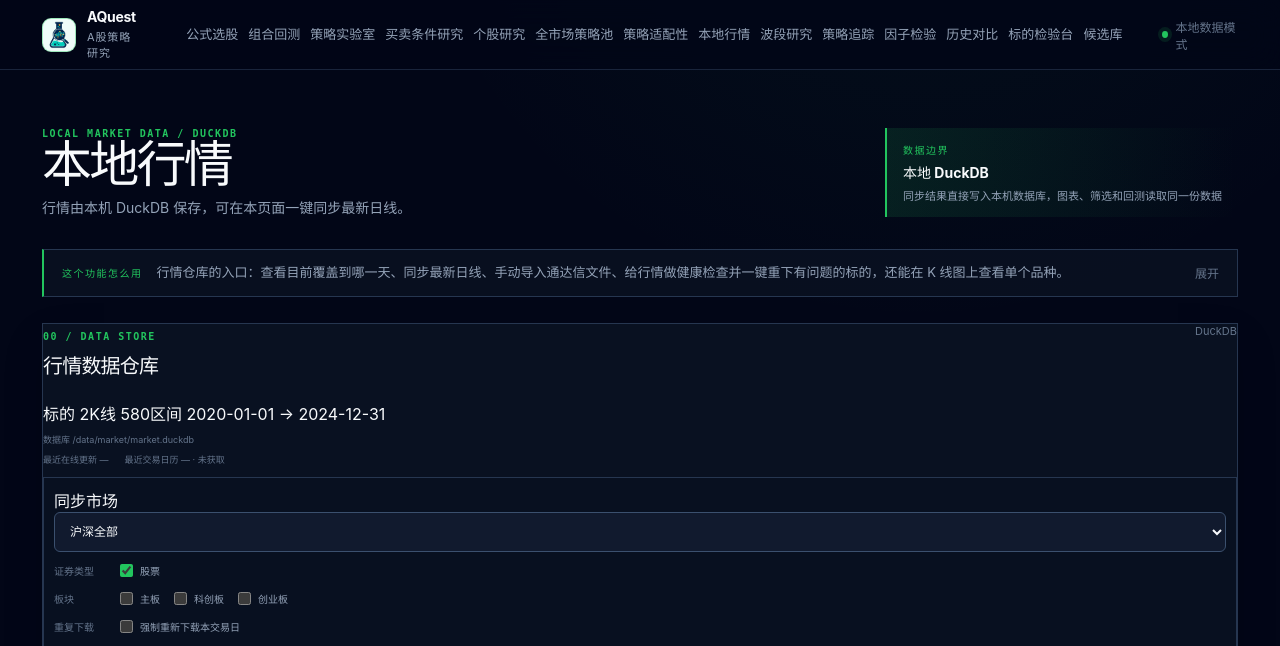
it: MarketDataPage › refreshes the selected scope from scratch after an explicit confirmation
What coordinates should you click on to do the following:
click the checkbox with test id "market-sync-board-main"
I would click on:
 (126, 598)
Its box is [120, 592, 133, 605].
(page scrolled)
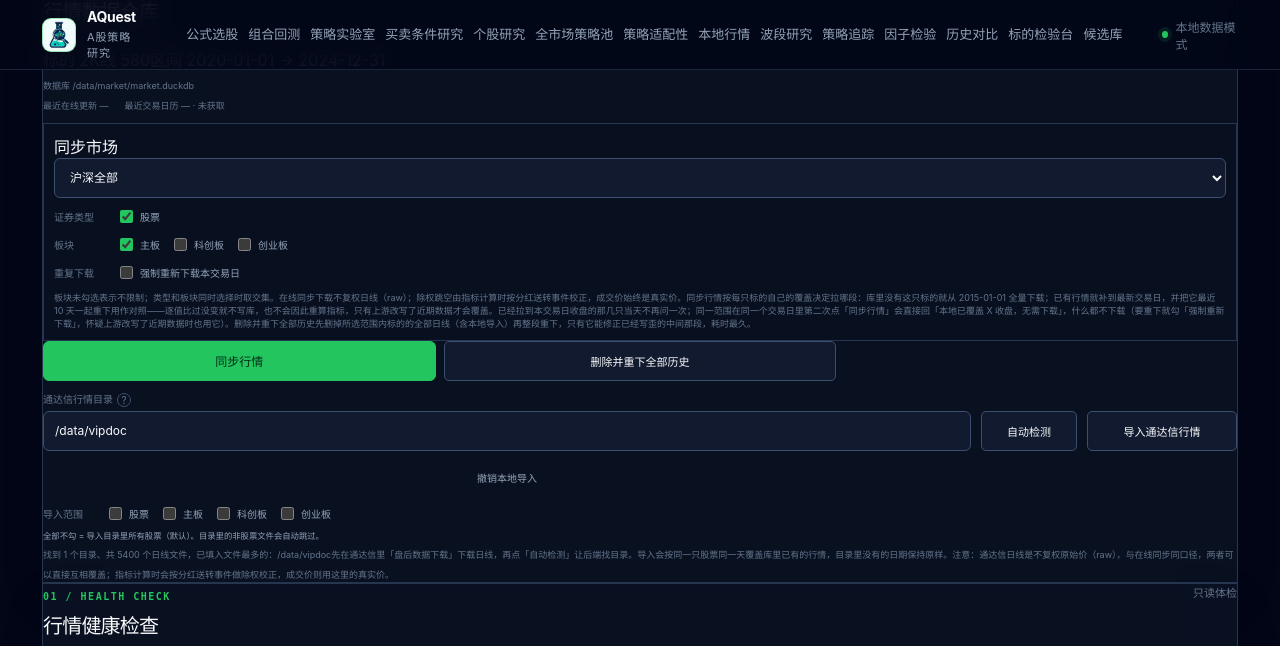
What coordinates should you click on to do the following:
click the button with test id "market-online-refresh"
I would click on:
 (640, 361)
Its box is [444, 341, 836, 381].
(page scrolled)
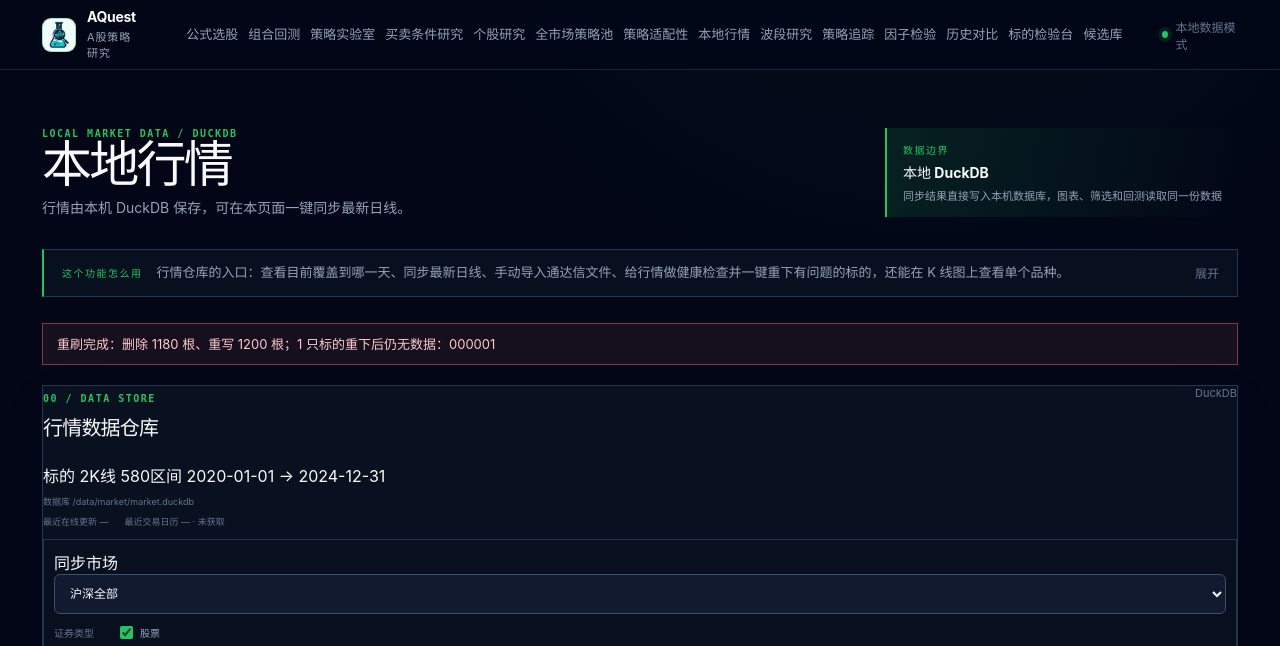
Expected: the message with test id "market-data-message" shows "删除 1180 根", [57, 336, 495, 352]
Expected: the message with test id "market-data-message" shows "重写 1200 根", [57, 336, 495, 352]
Expected: the message with test id "market-data-message" shows "000001", [57, 336, 495, 352]
